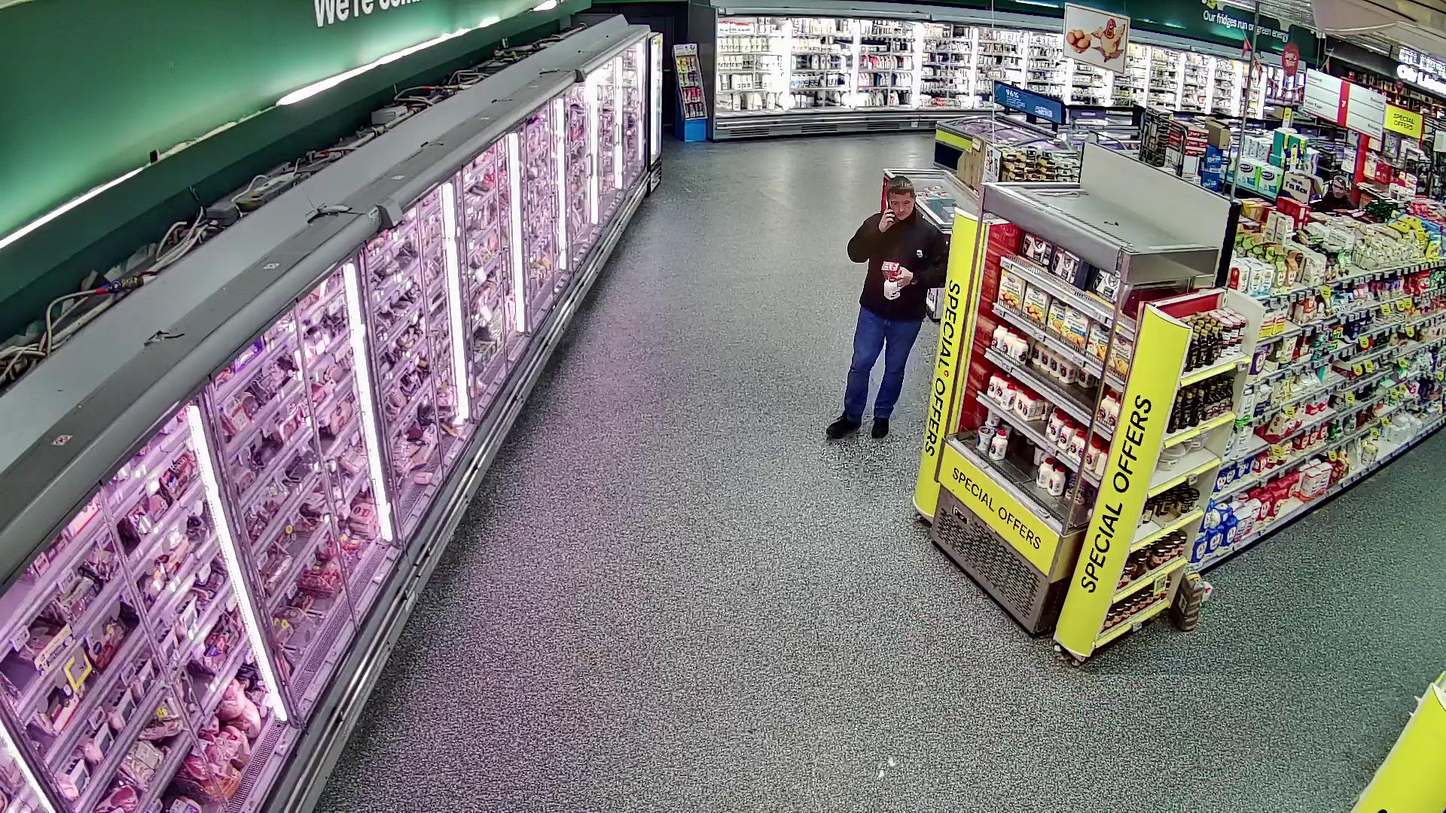carrying-item: (882, 260, 902, 300)
person: (825, 175, 948, 438)
person-with-carrying-item: (826, 174, 949, 438)
